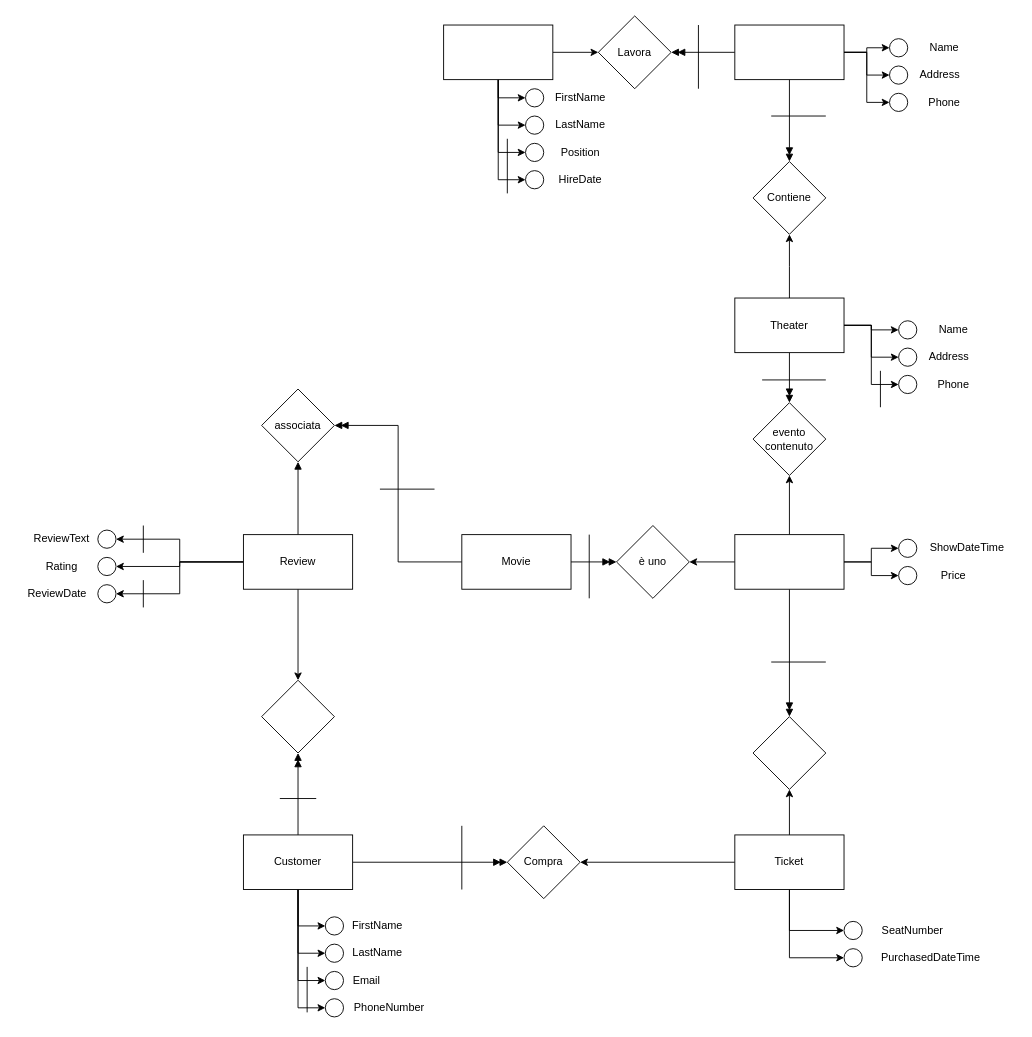
Image size: 1032x1037. Some labels were removed from this diagram. The shapes that lost their labels are listed below. From the top down, each one's box as (x1, y1, x2, y2) in pixels, then its label:
(443, 24, 553, 80): Employee
(734, 24, 844, 80): Cinema
(734, 534, 844, 589): Showtime
(261, 679, 334, 753): Scrive
(752, 716, 826, 789): Si riferisce
